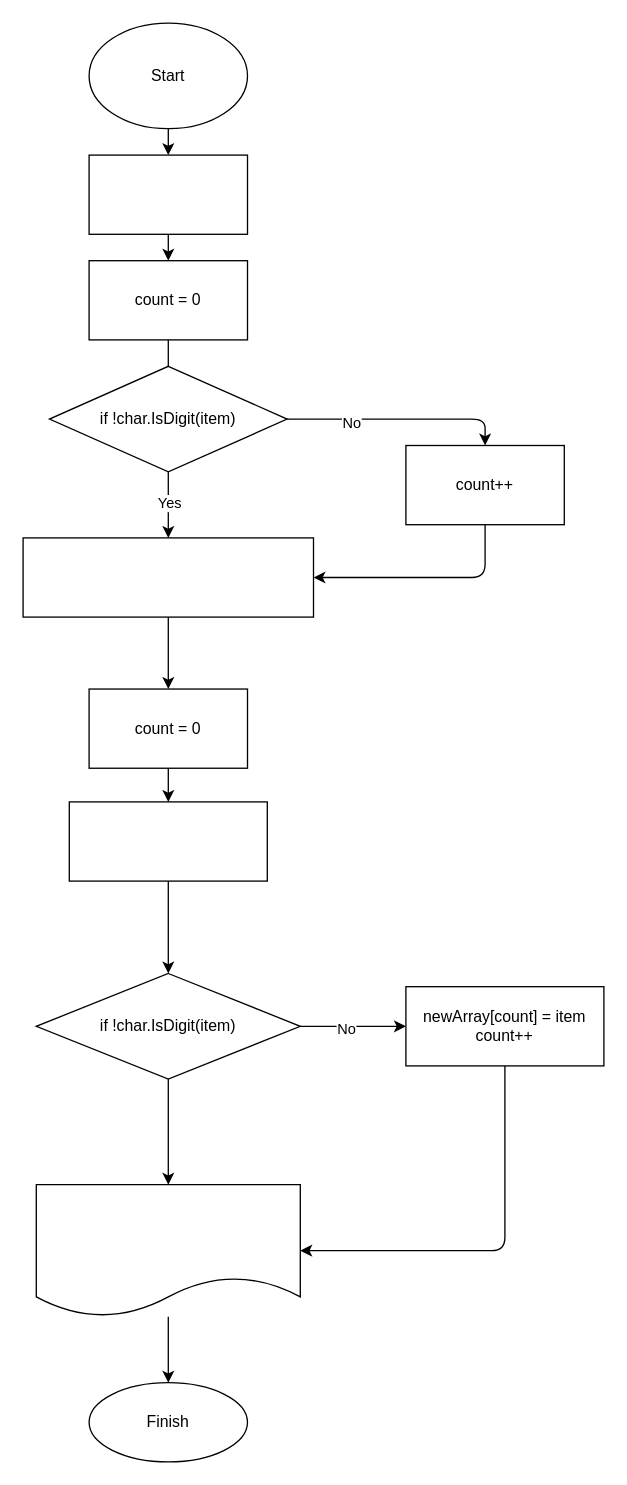
Some shapes in this 627 by 1485 pixel diagram are drawn without their labels. The box of each missing label's shape, as (x1, y1, x2, y2) in pixels:
char [] data: (88, 154, 248, 234)
char [] newArray = new char[count]: (22, 537, 314, 617)
Console.WriteLine(result): (35, 1183, 300, 1317)
foreach (char item in data): (68, 801, 267, 881)
